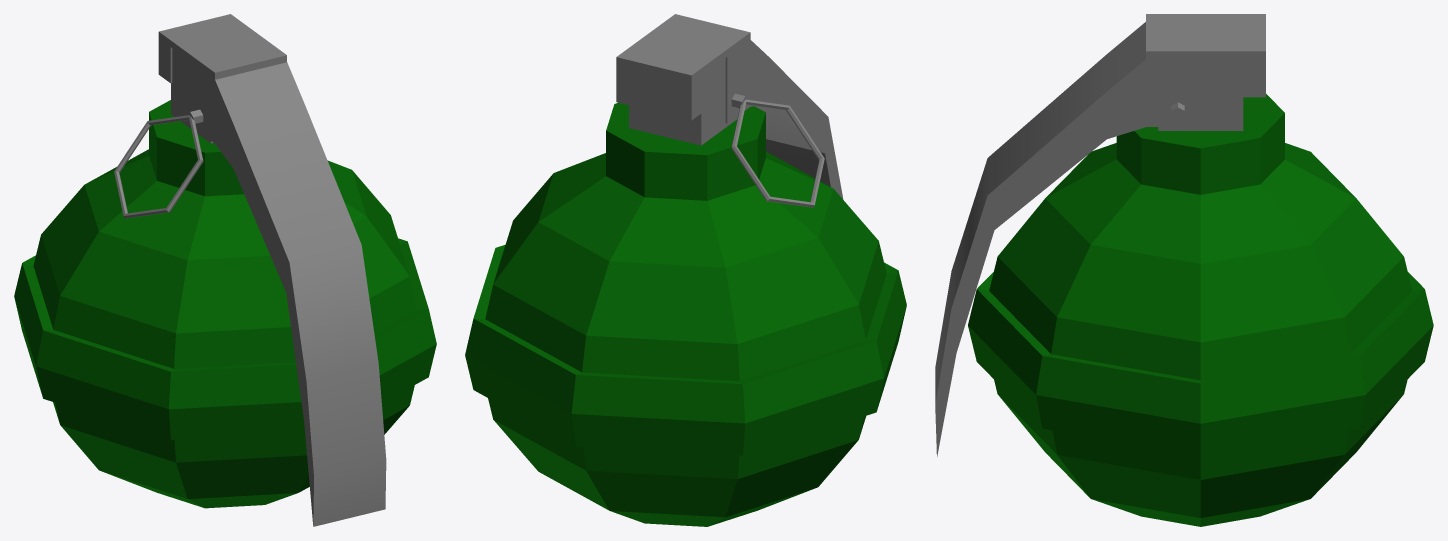
Rendered from GrenadeFinale.fbx.
3 views of the same model, side by side, from view 1: azimuth 30°, elevation 25°; view 2: azimuth 150°, elevation 25°; view 3: azimuth 270°, elevation 25° (orthographic). The views are drawn at different scales.
Visible parts, largest first — view 1: polySurface3; view 2: polySurface3; view 3: polySurface3.
Part boxes in pixels (<box>): polySurface3: <box>14,14,436,526</box>; polySurface3: <box>465,14,906,526</box>; polySurface3: <box>935,14,1433,526</box>.
Bounding box in the file's own units: 2.12 × 2.37 × 2.27.
